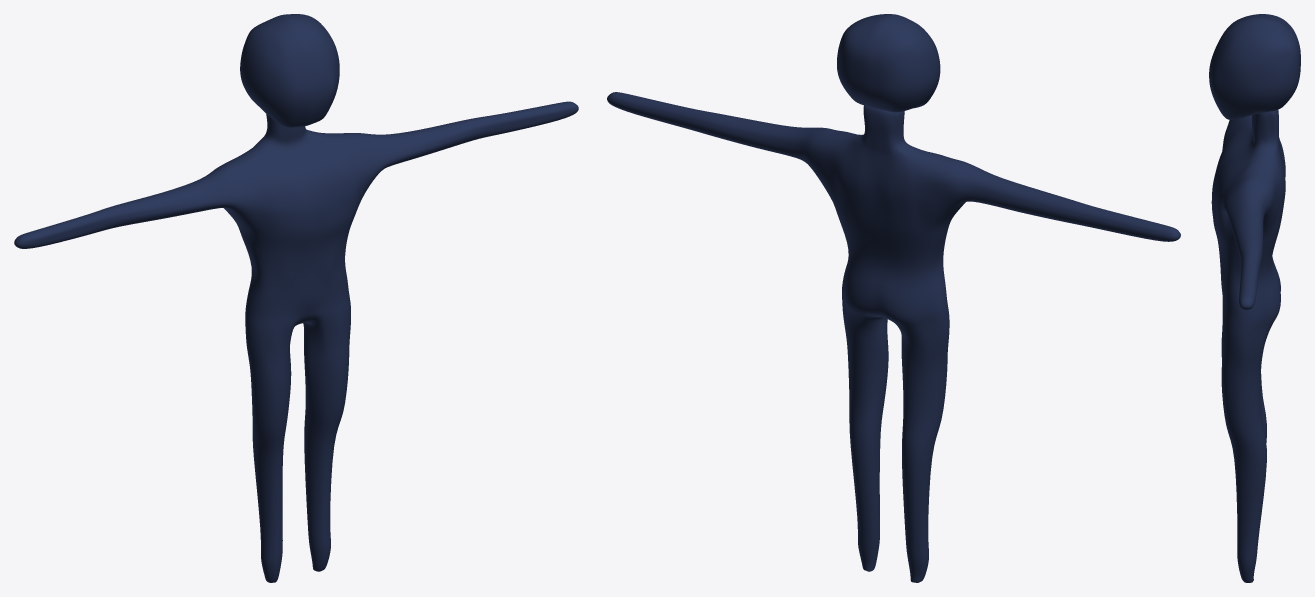
Rendered from homi_3d_02.fbx.
3 renders of one model, left to right at view 1: azimuth 30°, elevation 25°; view 2: azimuth 150°, elevation 25°; view 3: azimuth 270°, elevation 25°, orthographic.
Parts seen in each view (by area): view 1: body.002; view 2: body.002; view 3: body.002.
Part boxes in pixels (x1,y1,x2,y2): body.002: [14, 14, 578, 582]; body.002: [607, 14, 1180, 582]; body.002: [1209, 14, 1300, 582].
Size of the model in its own units: 2.1 by 1.98 by 0.2985.
